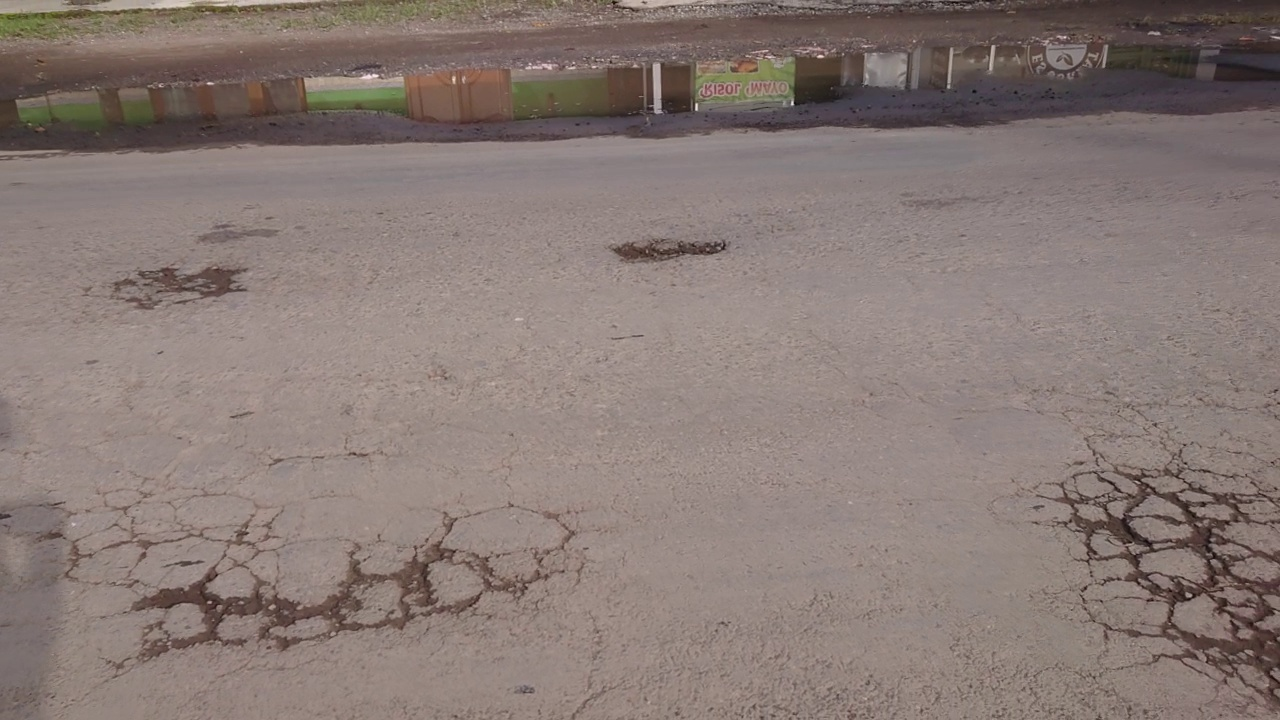Retak: (134, 508, 561, 649), (1056, 450, 1280, 713), (95, 255, 243, 308), (606, 241, 731, 267)
